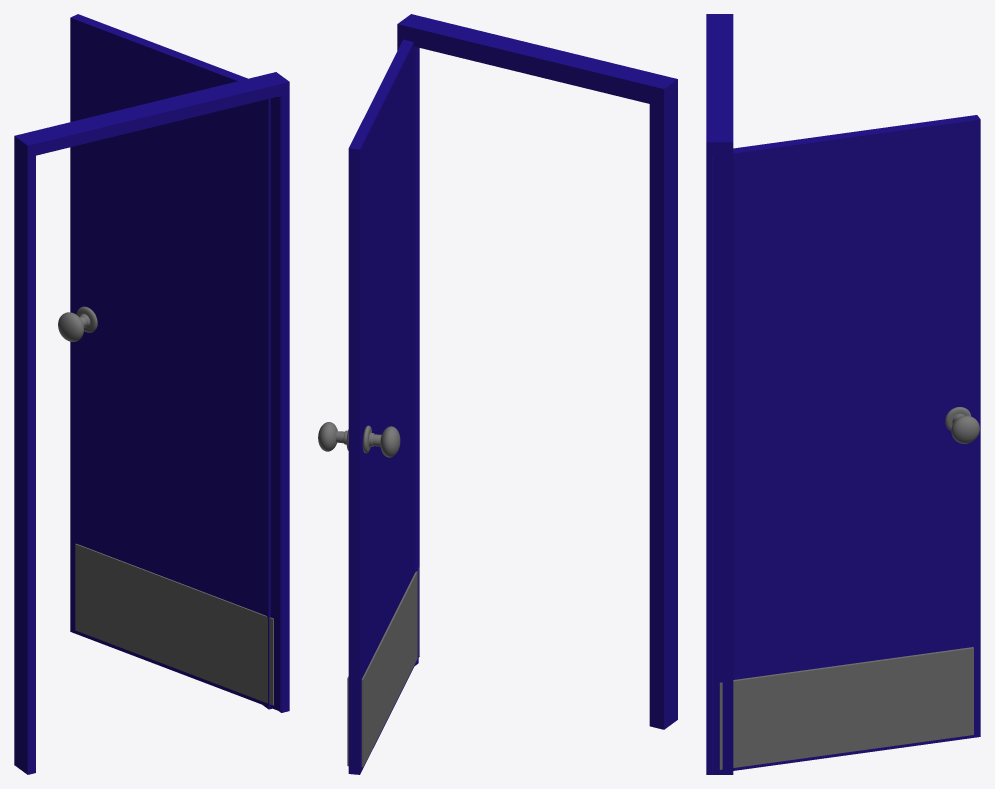
Rendered from Door2.fbx.
The picture shows the model from 3 angles, left to right: view 1: azimuth 30°, elevation 25°; view 2: azimuth 150°, elevation 25°; view 3: azimuth 270°, elevation 25°; orthographic projection.
Visible parts, largest first — view 1: Door, DoorFrame, Handle_Back; view 2: Door, DoorFrame, Handle_Back, Handle_Front; view 3: Door, DoorFrame, Handle_Front.
Part boxes in pixels (x1=…): Door: x1=70, y1=14, x2=280, y2=711; DoorFrame: x1=14, y1=72, x2=289, y2=774; Handle_Back: x1=58, y1=306, x2=97, y2=341; Door: x1=347, y1=39, x2=419, y2=774; DoorFrame: x1=397, y1=14, x2=677, y2=729; Handle_Back: x1=362, y1=425, x2=400, y2=457; Handle_Front: x1=318, y1=422, x2=348, y2=451; Door: x1=711, y1=115, x2=980, y2=773; DoorFrame: x1=706, y1=14, x2=733, y2=774; Handle_Front: x1=945, y1=407, x2=979, y2=443.
Bounding box in the file's own units: 89.97 × 206 × 80.99.
